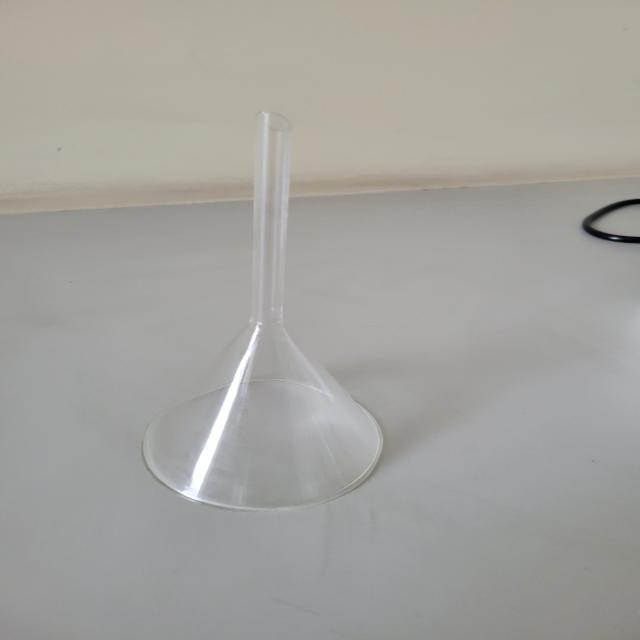Funnel: (109, 96, 436, 544)
